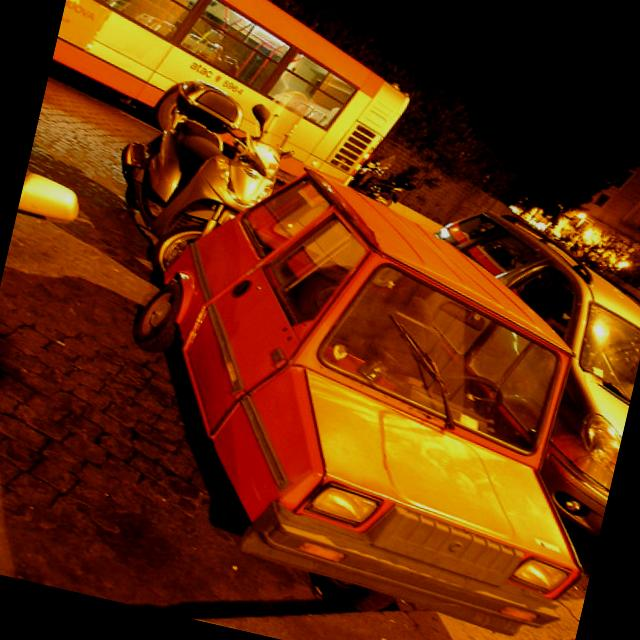Vehicle: (83, 140, 640, 640), (370, 195, 640, 550), (36, 0, 438, 211), (102, 72, 298, 284), (346, 166, 418, 212)
